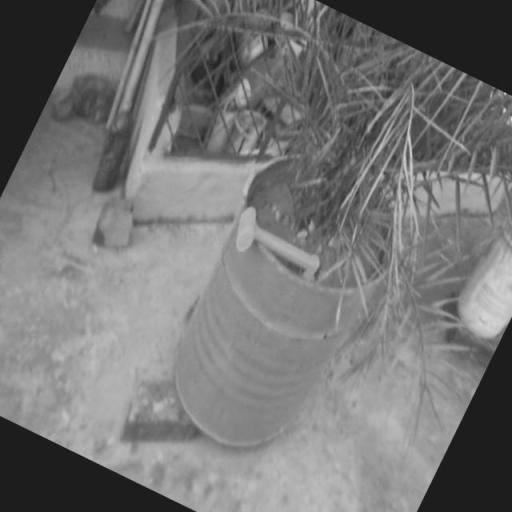mallet: (227, 204, 330, 284)
